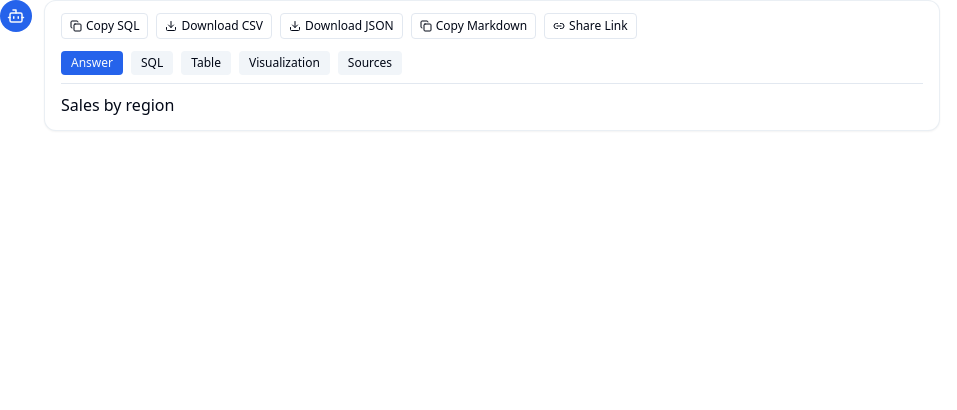
Message › renders tabbed layout with visualization tab for assistant results
Expected: the tab "Answer" is shown, [61,51,123,75]
Expected: the tab "SQL" is shown, [131,51,173,75]
Click the tab "Visualization": (284,63) [239,51,330,75]
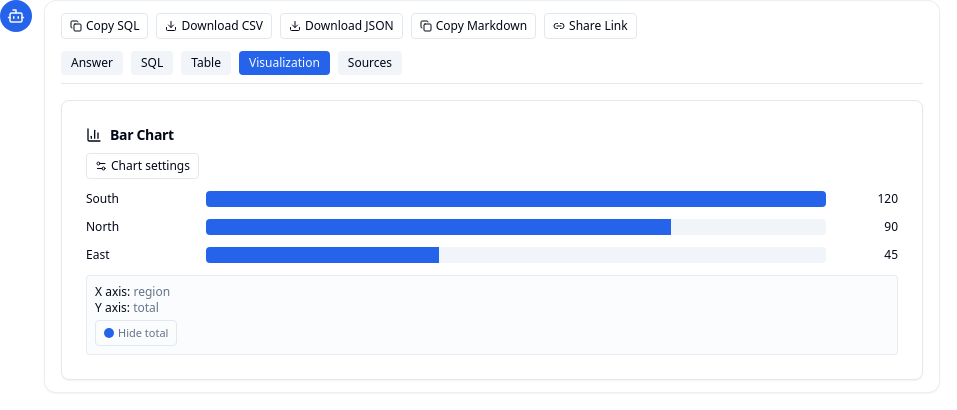
Now the text "Bar Chart" is shown, box [86,125,174,144]
